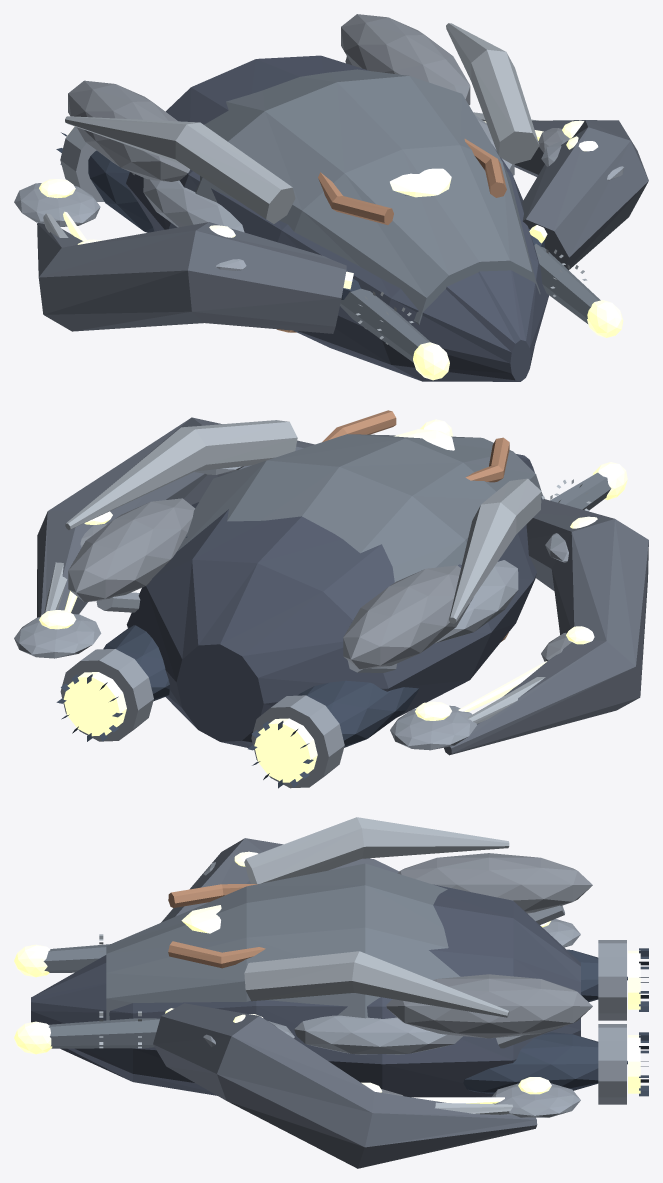
Rendered from npc_mordon.glb.
3 views of the same model, one above another, from view 1: azimuth 30°, elevation 25°; view 2: azimuth 150°, elevation 25°; view 3: azimuth 270°, elevation 25° (orthographic). The views are drawn at different scales.
Parts seen in each view (by area): view 1: upper_armor_scar, armored_scythe_-1, keel_pressure_hull, armored_scythe_1, kharon_battle_bridge_-1, kharon_battle_bridge_1, kharon_reinforced_nacelle_1, kharon_reinforced_nacelle_-1, heavy_shield_pad_-1, long_plasma_cannon_-1, scythe_plate_-1_2, engine_armor_-1 (+8 smaller); view 2: keel_pressure_hull, upper_armor_scar, armored_scythe_-1, kharon_battle_bridge_1, kharon_reinforced_nacelle_1, kharon_reinforced_nacelle_-1, armored_scythe_1, kharon_battle_bridge_-1, engine_armor_-1, exhaust_coil_-1, exhaust_coil_1, exhaust_blue_-1 (+16 smaller); view 3: upper_armor_scar, keel_pressure_hull, armored_scythe_1, kharon_battle_bridge_1, kharon_reinforced_nacelle_1, kharon_battle_bridge_-1, kharon_reinforced_nacelle_-1, engine_armor_1, heavy_shield_pad_1, long_plasma_cannon_1, exhaust_coil_-1, exhaust_coil_1 (+14 smaller).
Part boxes in pixels (box(x1,y1,x2,y2)): upper_armor_scar: box(195, 69, 540, 324); armored_scythe_-1: box(37, 222, 346, 333); keel_pressure_hull: box(126, 55, 548, 381); armored_scythe_1: box(514, 120, 648, 270); kharon_battle_bridge_-1: box(65, 116, 295, 223); kharon_battle_bridge_1: box(446, 23, 539, 164); kharon_reinforced_nacelle_1: box(341, 14, 470, 105); kharon_reinforced_nacelle_-1: box(68, 80, 189, 181); heavy_shield_pad_-1: box(143, 178, 244, 232); long_plasma_cannon_-1: box(340, 288, 430, 362); scythe_plate_-1_2: box(14, 183, 100, 226); engine_armor_-1: box(88, 150, 154, 232); keel_pressure_hull: box(126, 454, 542, 747); upper_armor_scar: box(177, 434, 542, 582); armored_scythe_-1: box(444, 499, 648, 755); kharon_battle_bridge_1: box(65, 420, 297, 529); kharon_reinforced_nacelle_1: box(68, 498, 194, 602); kharon_reinforced_nacelle_-1: box(343, 565, 473, 669); armored_scythe_1: box(37, 417, 314, 617); kharon_battle_bridge_-1: box(449, 478, 541, 623); engine_armor_-1: box(297, 680, 418, 747); exhaust_coil_-1: box(251, 695, 344, 788); exhaust_coil_1: box(60, 649, 153, 741); exhaust_blue_-1: box(254, 718, 317, 782); upper_armor_scar: box(106, 863, 460, 1020); keel_pressure_hull: box(31, 884, 580, 1097); armored_scythe_1: box(153, 1003, 537, 1168); kharon_battle_bridge_1: box(244, 951, 509, 1017); kharon_reinforced_nacelle_1: box(386, 974, 592, 1038); kharon_battle_bridge_-1: box(244, 817, 509, 883); kharon_reinforced_nacelle_-1: box(397, 853, 592, 913); engine_armor_1: box(463, 1032, 627, 1094); heavy_shield_pad_1: box(294, 1015, 462, 1054); long_plasma_cannon_1: box(48, 1018, 159, 1048); exhaust_coil_-1: box(598, 940, 626, 1020); exhaust_coil_1: box(598, 1024, 626, 1104).
Bounding box in the file's own units: 3.49 × 1.25 × 3.54.
